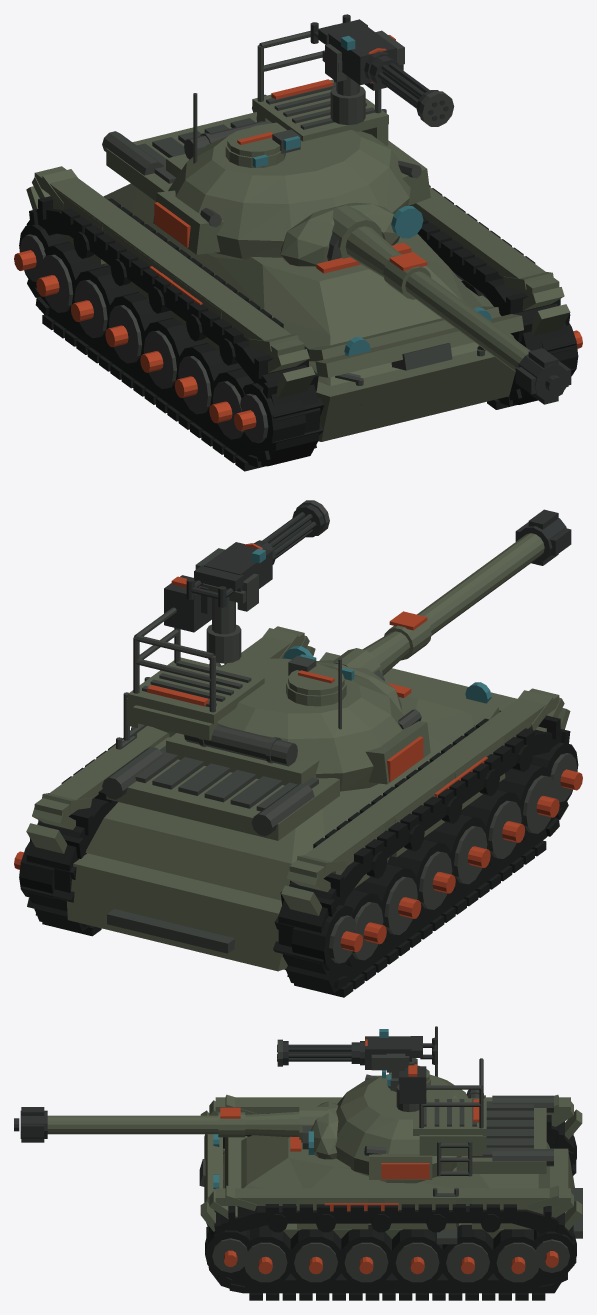
The model's file is Bastion_MT12_Static.obj.
3 renders of one model, top to bottom at view 1: azimuth 30°, elevation 25°; view 2: azimuth 150°, elevation 25°; view 3: azimuth 270°, elevation 25°, orthographic. The views are drawn at different scales.
Parts seen in each view (by area): view 1: Bastion_MT12_Static; view 2: Bastion_MT12_Static; view 3: Bastion_MT12_Static.
Part boxes in pixels (<box>): Bastion_MT12_Static: <box>14,14,582,471</box>; Bastion_MT12_Static: <box>14,500,582,997</box>; Bastion_MT12_Static: <box>14,1026,582,1300</box>.
Size of the model in its own units: 4.28 by 3.81 by 8.46.
Materials: 1 (1 with a texture image).
